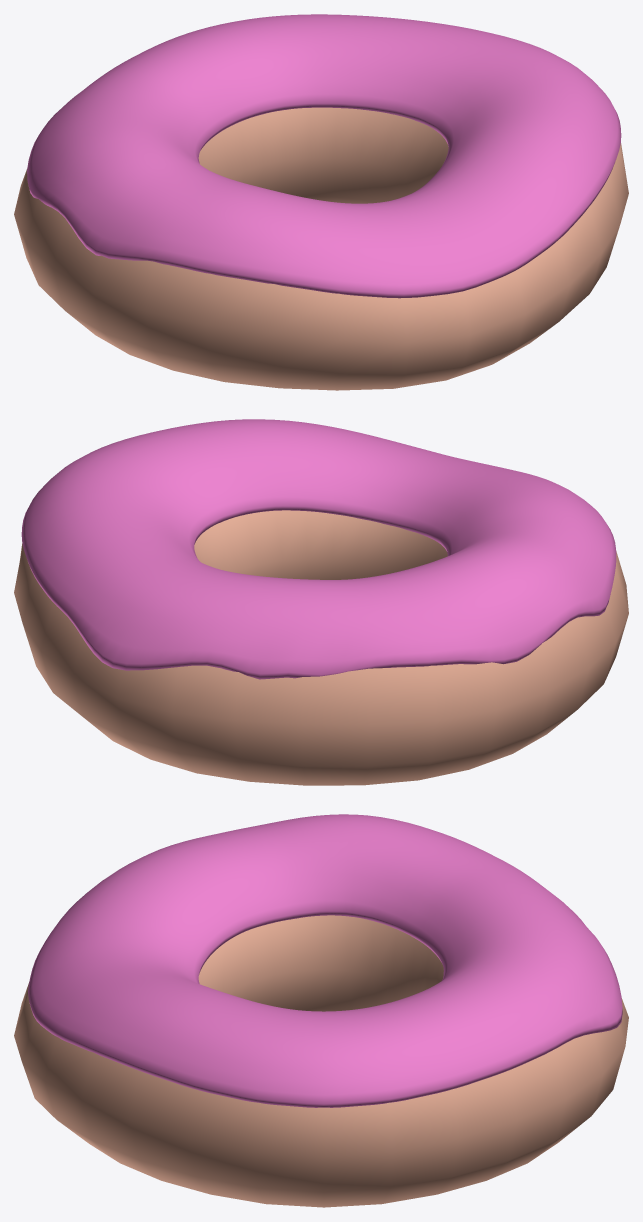
The model's file is donut.glb.
The picture shows the model from 3 angles, top to bottom: view 1: azimuth 30°, elevation 25°; view 2: azimuth 150°, elevation 25°; view 3: azimuth 270°, elevation 25°; orthographic projection.
Visible parts, largest first — view 1: Donut Icing, Donut; view 2: Donut Icing, Donut; view 3: Donut Icing, Donut.
Boxes of the visible parts, box(x1,y1,x2,y2) form: Donut Icing: box(27, 14, 621, 298); Donut: box(14, 107, 628, 390); Donut Icing: box(21, 419, 616, 679); Donut: box(14, 510, 628, 785); Donut Icing: box(28, 814, 622, 1107); Donut: box(14, 915, 628, 1207).
Bounding box in the file's own units: 0.2272 × 0.0777 × 0.2183.
